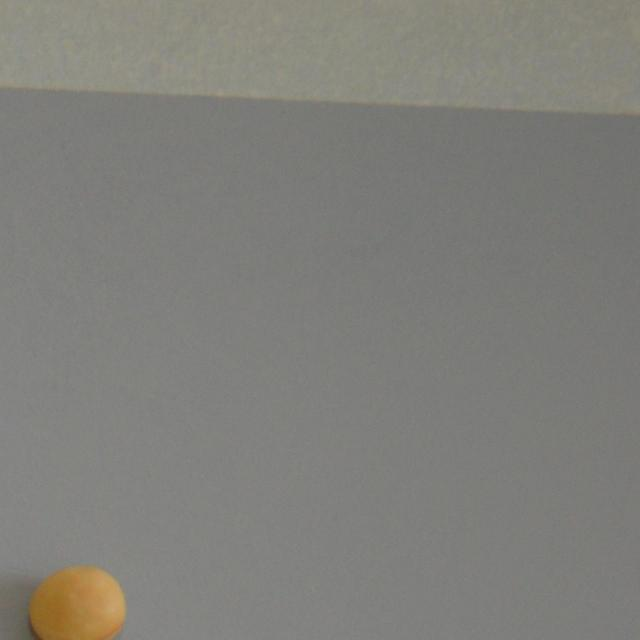cuerpos_extranos: (24, 560, 123, 640)
